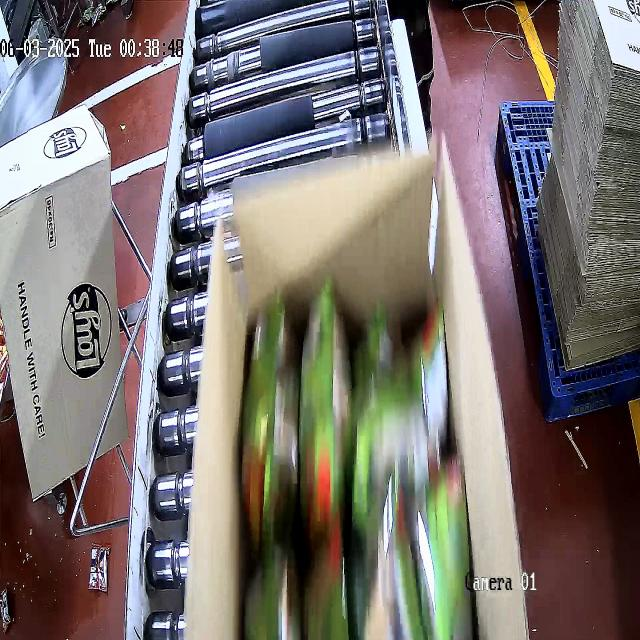YOGURT_HERB: (239, 301, 470, 630)
